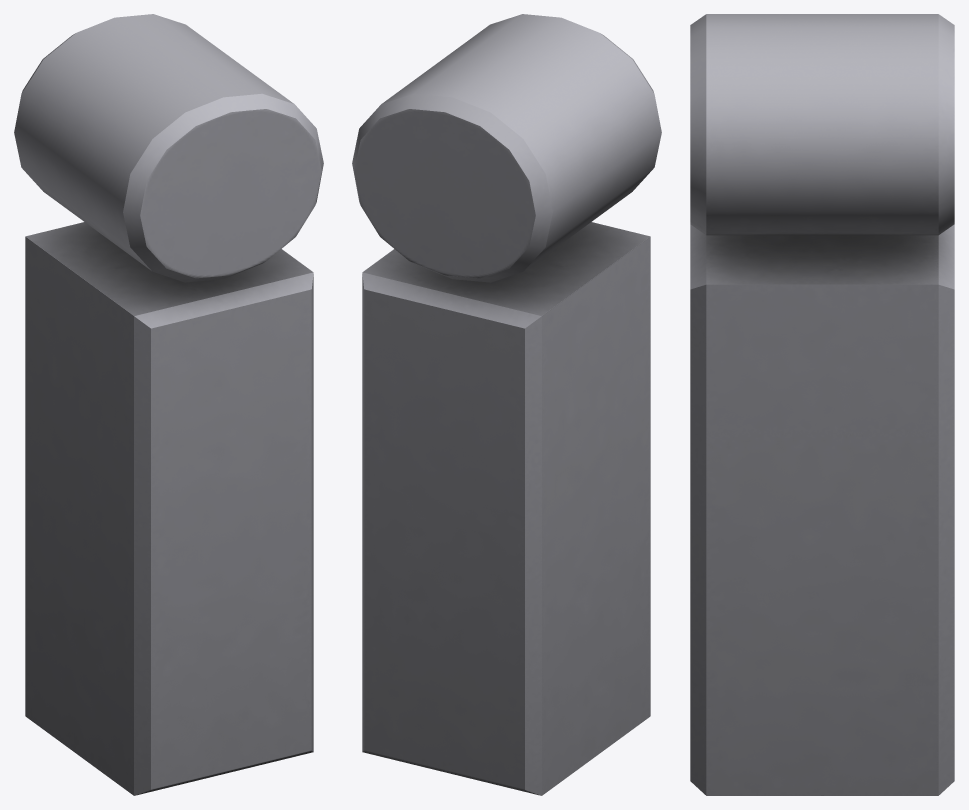
File: i_lowc_static.fbx
3 renders of one model, left to right at view 1: azimuth 30°, elevation 25°; view 2: azimuth 150°, elevation 25°; view 3: azimuth 270°, elevation 25°, orthographic. The views are drawn at different scales.
Visible parts, largest first — view 1: i_lowc_static; view 2: i_lowc_static; view 3: i_lowc_static.
Boxes of the visible parts, x1=… form: i_lowc_static: x1=14, y1=14, x2=323, y2=795; i_lowc_static: x1=352, y1=14, x2=661, y2=795; i_lowc_static: x1=690, y1=14, x2=954, y2=795.
Size of the model in its own units: 30.88 by 99.42 by 33.
